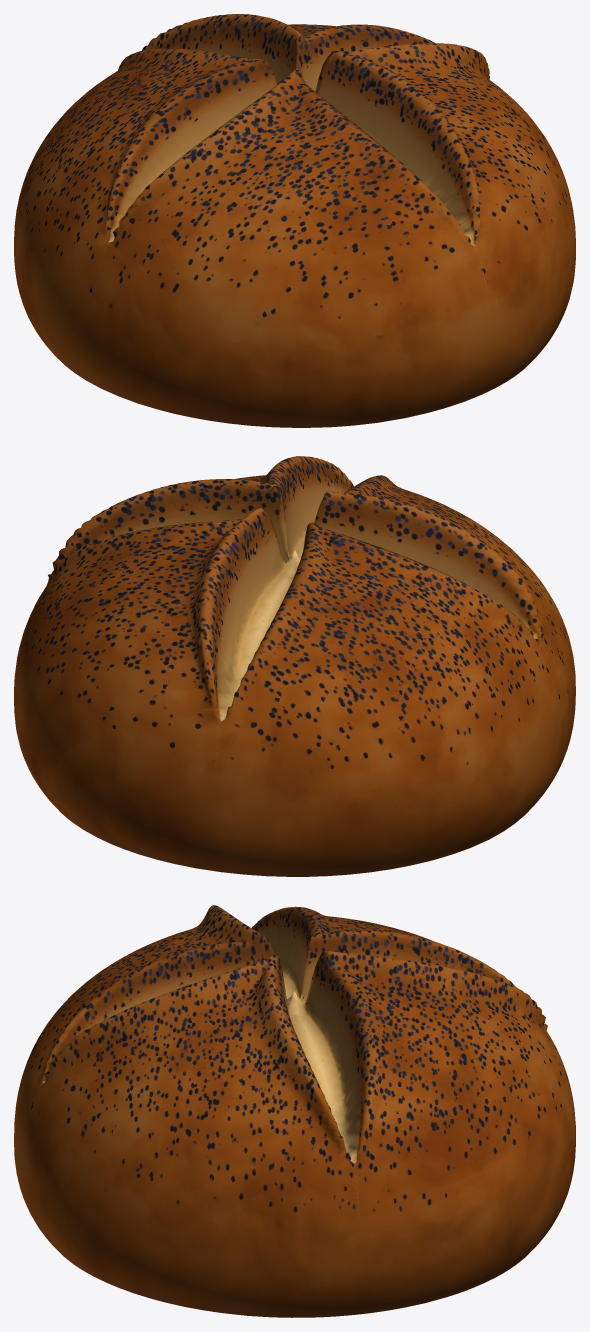
The model's file is campagne--poppyseed-seed.glb.
3 views of the same model, one above another, from view 1: azimuth 30°, elevation 25°; view 2: azimuth 150°, elevation 25°; view 3: azimuth 270°, elevation 25° (orthographic).
Visible parts, largest first — view 1: campagne_poppyseed-seed; view 2: campagne_poppyseed-seed; view 3: campagne_poppyseed-seed.
Boxes of the visible parts, box(x1,y1,x2,y2) form: campagne_poppyseed-seed: box(14, 14, 575, 427); campagne_poppyseed-seed: box(14, 456, 575, 876); campagne_poppyseed-seed: box(14, 905, 575, 1317).
Size of the model in its own units: 0.9987 by 0.5303 by 0.9991.
Materials: 1 (1 with a texture image).
